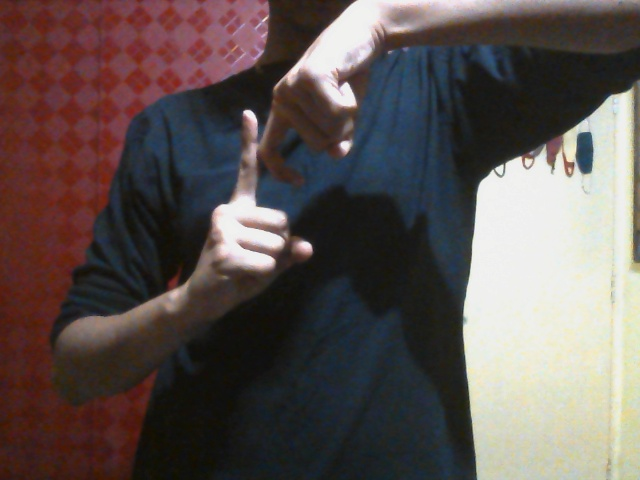K: (190, 92, 359, 308)
